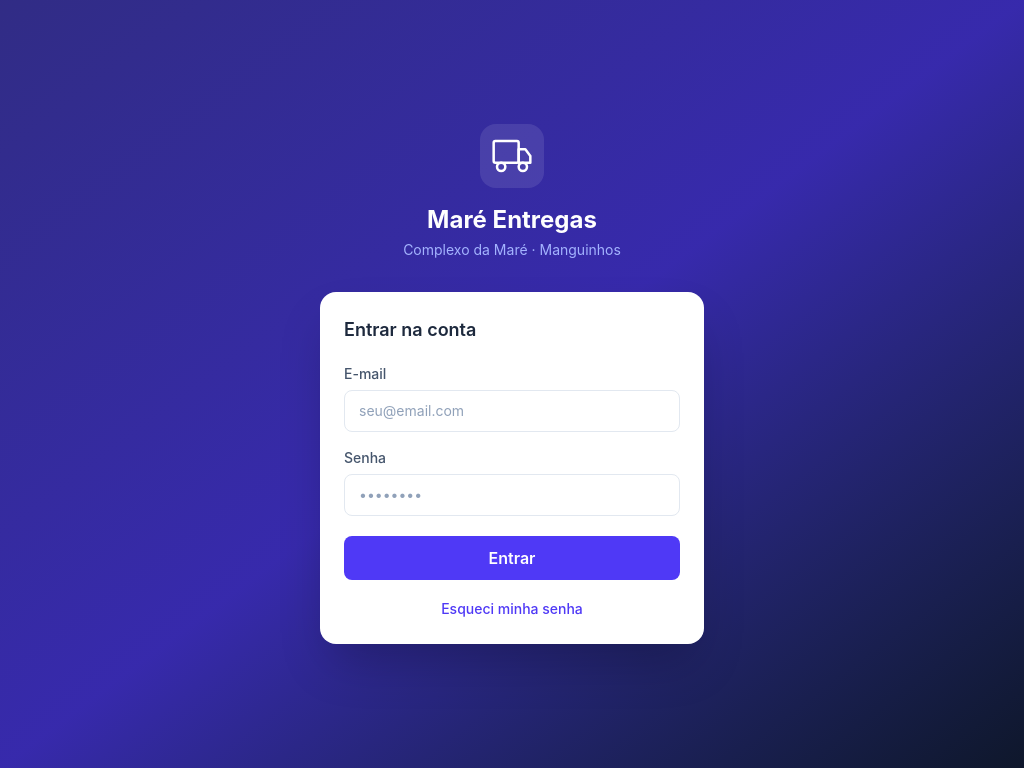
Test: LoginPage › should show an error message if fields are empty
This screenshot has width=1024, height=768.
Click the button "Entrar": (512, 558) top-left (344, 536), bottom-right (680, 580)
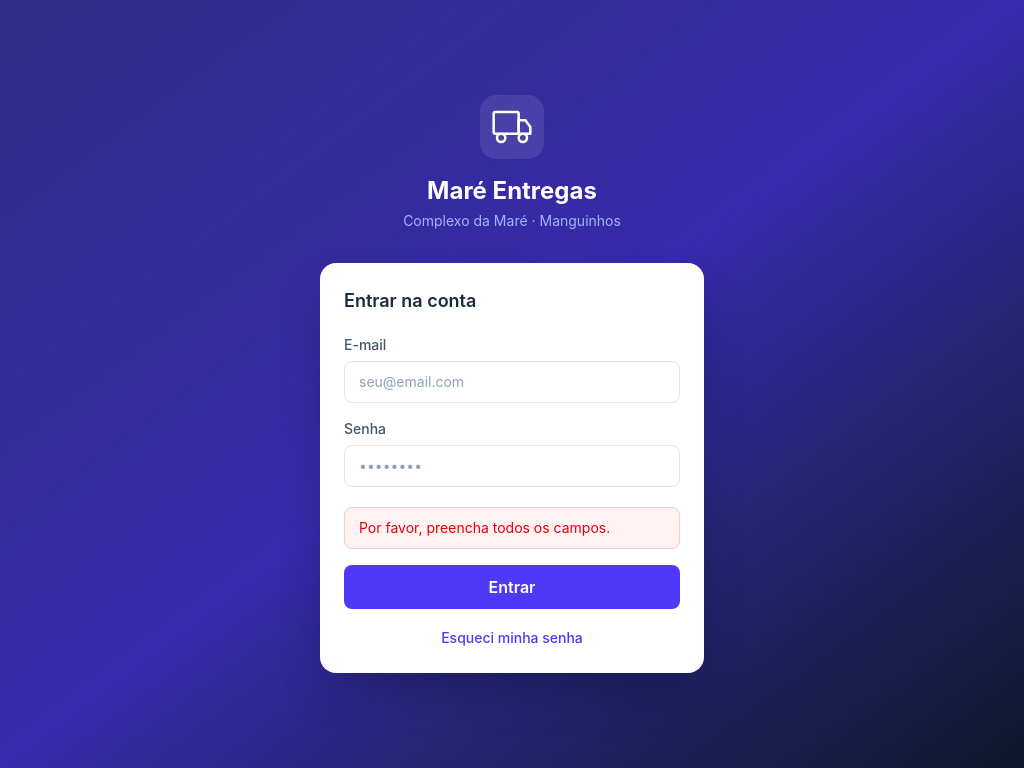
expect the text "Por favor, preencha todos os campos." is shown: met, box top-left (359, 519), bottom-right (610, 536)
